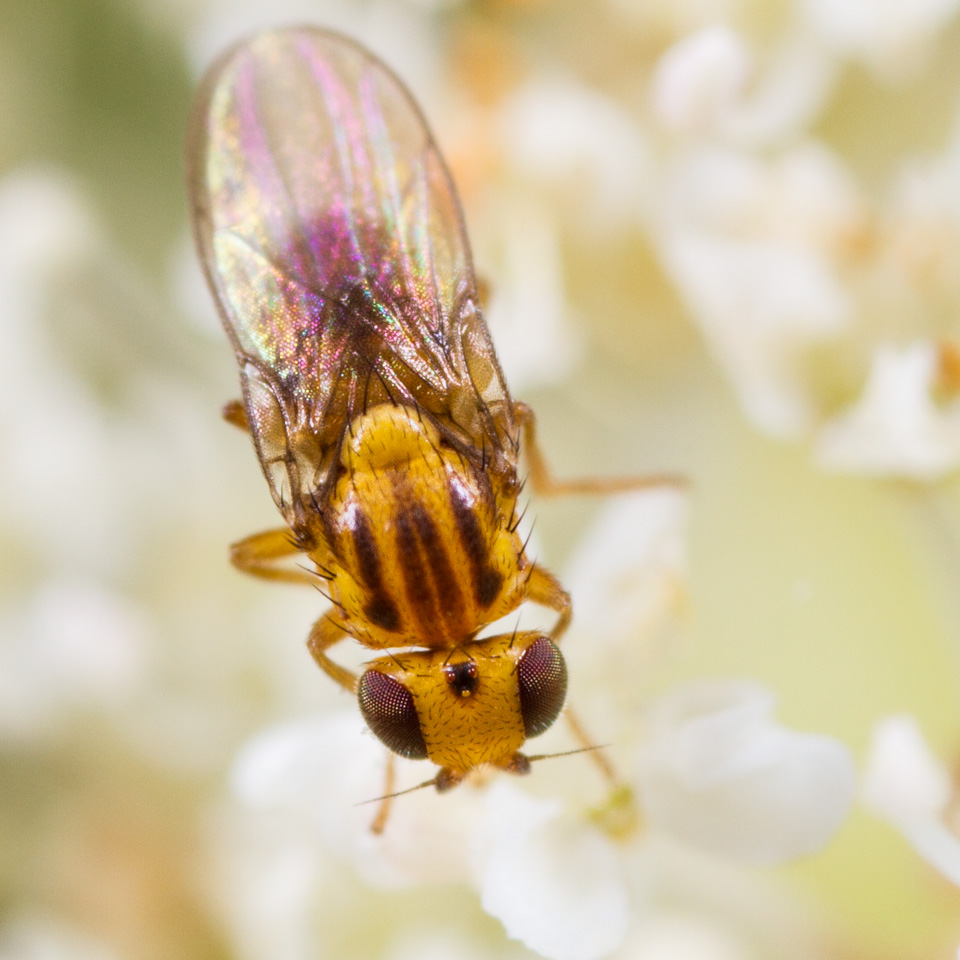Chloropidae: (176, 24, 681, 833)
